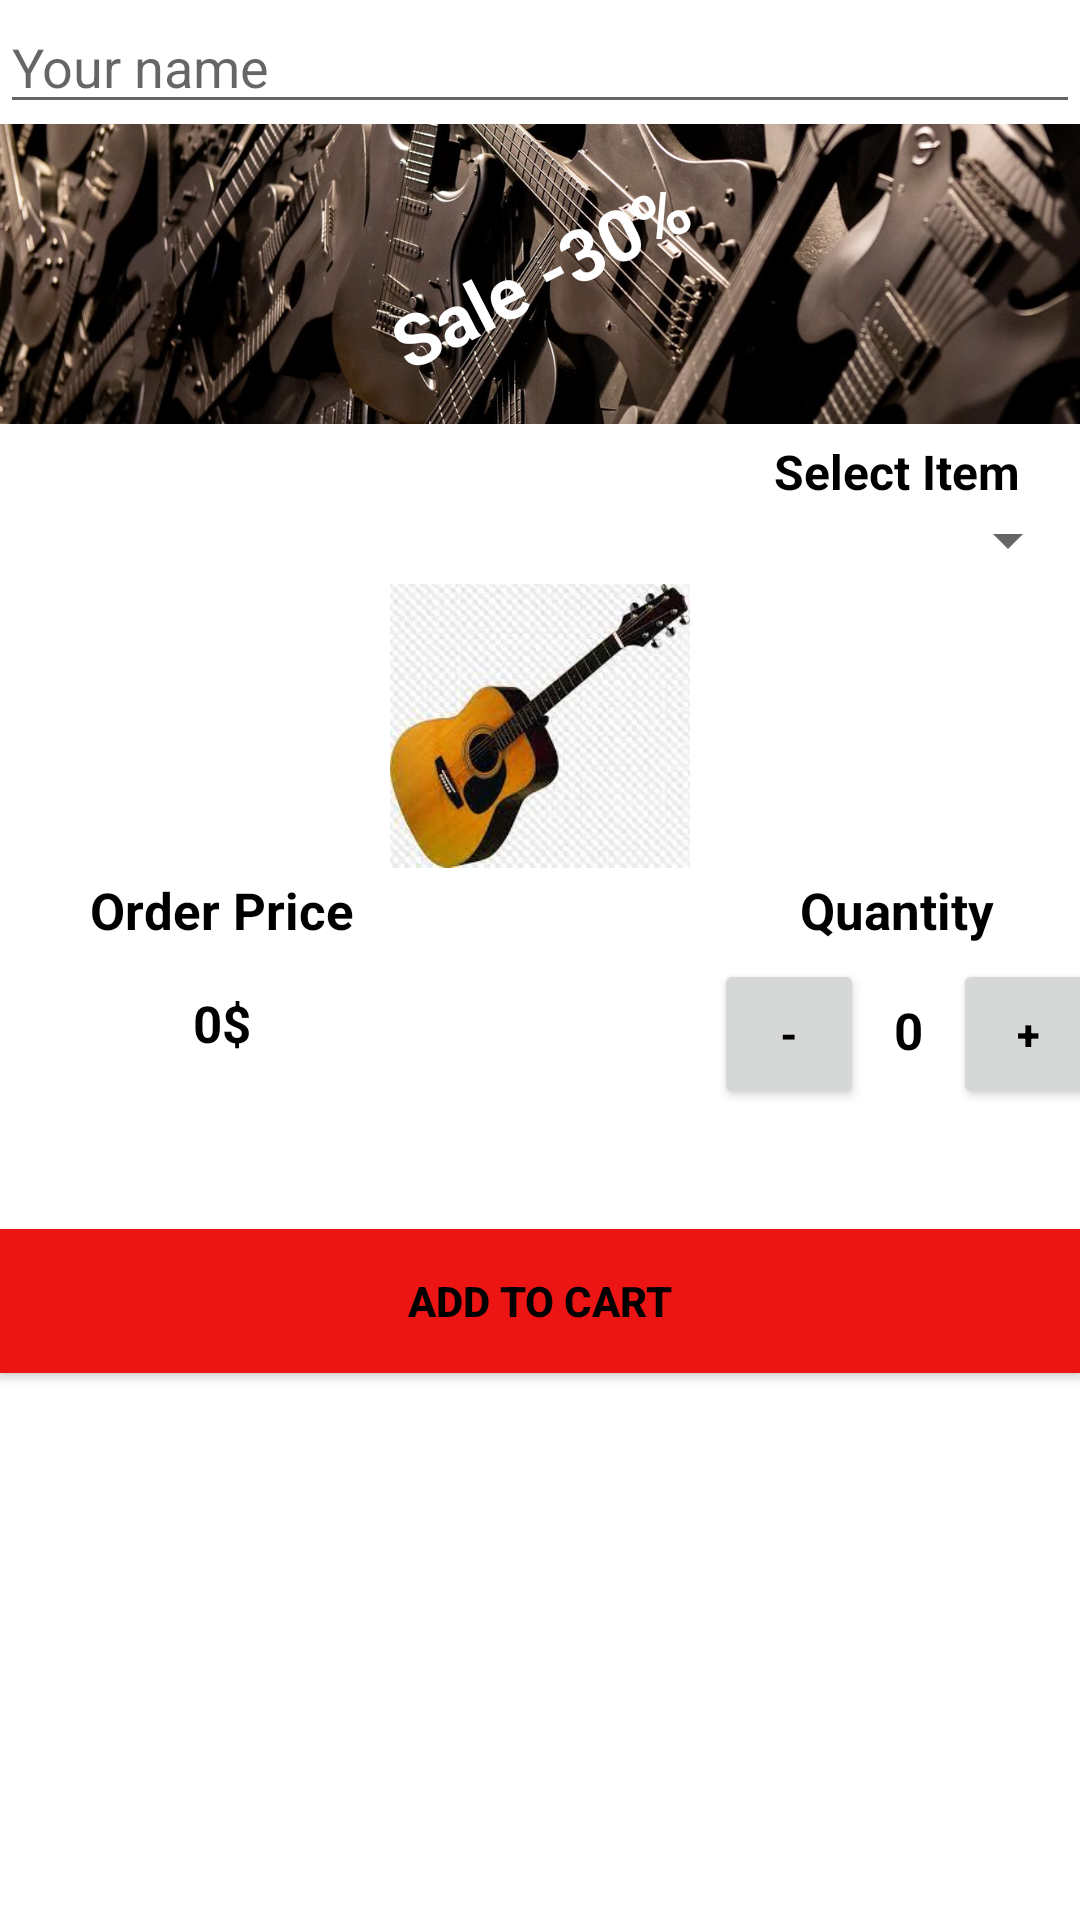

Point at icon controls on the screen. Image size 1080px×1920px, points as point (x, y).
guitar: point (540, 726)
